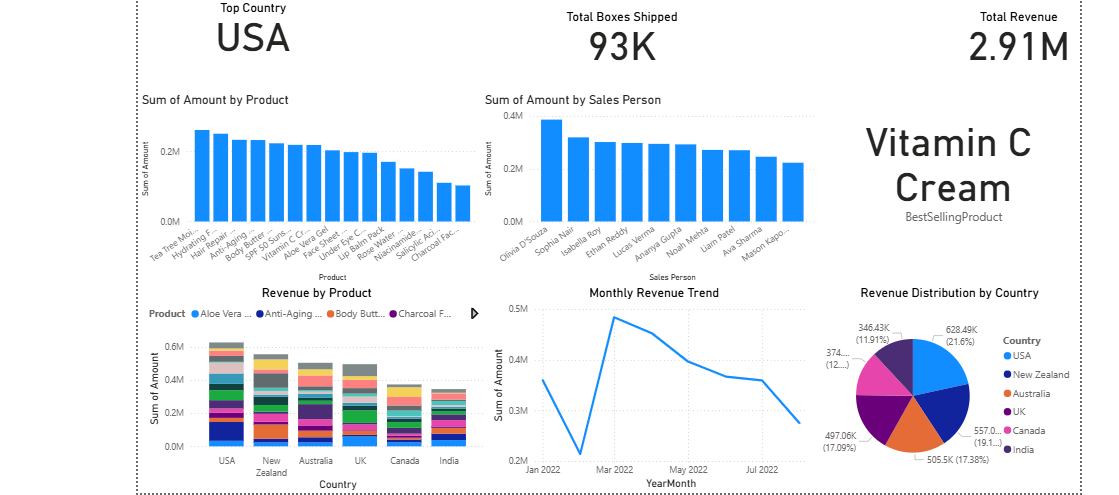

This screenshot's page, from the dashboard's own definition file:
{"tool":"powerbi","page":{"name":"Page 1","canvas":[1280,720],"ordinal":0},"visuals":[{"type":"clusteredColumnChart","fields":{"Y":["cosmetics_sales_data.Amount"],"Category":["cosmetics_sales_data.Product"]},"box":[0,174.8,466.6,262.9],"z":0},{"type":"columnChart","title":"Revenue by Product","fields":{"Series":["cosmetics_sales_data.Product"],"Category":["cosmetics_sales_data.Country"],"Y":["cosmetics_sales_data.Amount"]},"box":[9.6,437.7,466.6,283.5],"z":1000},{"type":"lineChart","title":"Monthly Revenue Trend","fields":{"Category":["cosmetics_sales_data.YearMonth"],"Y":["cosmetics_sales_data.Amount"]},"box":[476.2,437.7,448.7,282.2],"z":2000},{"type":"pieChart","title":"Revenue Distribution by Country","fields":{"Category":["cosmetics_sales_data.Country"],"Y":["cosmetics_sales_data.Amount"]},"box":[924.9,437.7,355.1,282.2],"z":3000},{"type":"card","title":"Total Boxes Shipped","fields":{"Values":["cosmetics_sales_data.Boxes Shipped"]},"box":[564.3,61.9,187.2,89.5],"z":4000},{"type":"card","title":"Total Revenue","fields":{"Values":["cosmetics_sales_data.Amount"]},"box":[1112.1,61.9,167.9,89.5],"z":5000},{"type":"card","fields":{"Values":["cosmetics_sales_data.BestSellingProduct"]},"box":[935.9,174.8,344.1,202.3],"z":6000},{"type":"card","title":"Top Country","fields":{"Values":["cosmetics_sales_data.TopCountry"]},"box":[78.5,50.9,155.5,89.5],"z":7000},{"type":"clusteredColumnChart","fields":{"Category":["cosmetics_sales_data.Sales Person"],"Y":["cosmetics_sales_data.Amount"]},"box":[466.6,174.8,458.3,262.9],"z":8000},{"type":"textbox","box":[243.6,0,880.9,61.9],"z":9000}]}

Visuals, with their boxes on the page's 1280x720 design canvas (x1, y1, x2, y2). These are canvas units, not pixel positions in the 1119x495 screenshot, which may show the page scaled, cropped or inside an application window:
clusteredColumnChart - cosmetics_sales_data.Amount x cosmetics_sales_data.Product: [0,175,467,438]
"Revenue by Product" columnChart: [10,438,476,721]
"Monthly Revenue Trend" lineChart: [476,438,925,720]
"Revenue Distribution by Country" pieChart: [925,438,1280,720]
"Total Boxes Shipped" card: [564,62,752,151]
"Total Revenue" card: [1112,62,1280,151]
card - cosmetics_sales_data.BestSellingProduct: [936,175,1280,377]
"Top Country" card: [78,51,234,140]
clusteredColumnChart - cosmetics_sales_data.Sales Person x cosmetics_sales_data.Amount: [467,175,925,438]
textbox: [244,0,1124,62]
